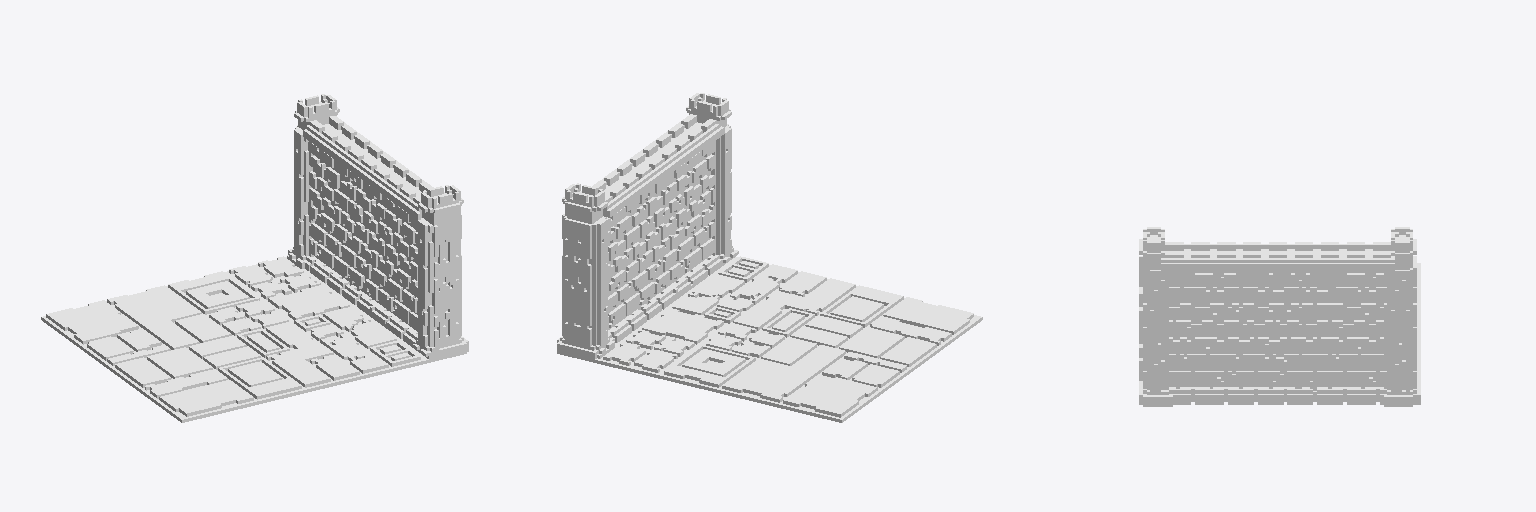
File: wall_E_derecha.obj
3 views of the same model, side by side, from view 1: azimuth 30°, elevation 25°; view 2: azimuth 150°, elevation 25°; view 3: azimuth 270°, elevation 25° (orthographic).
Bounding box in the file's own units: 90 × 48 × 76.